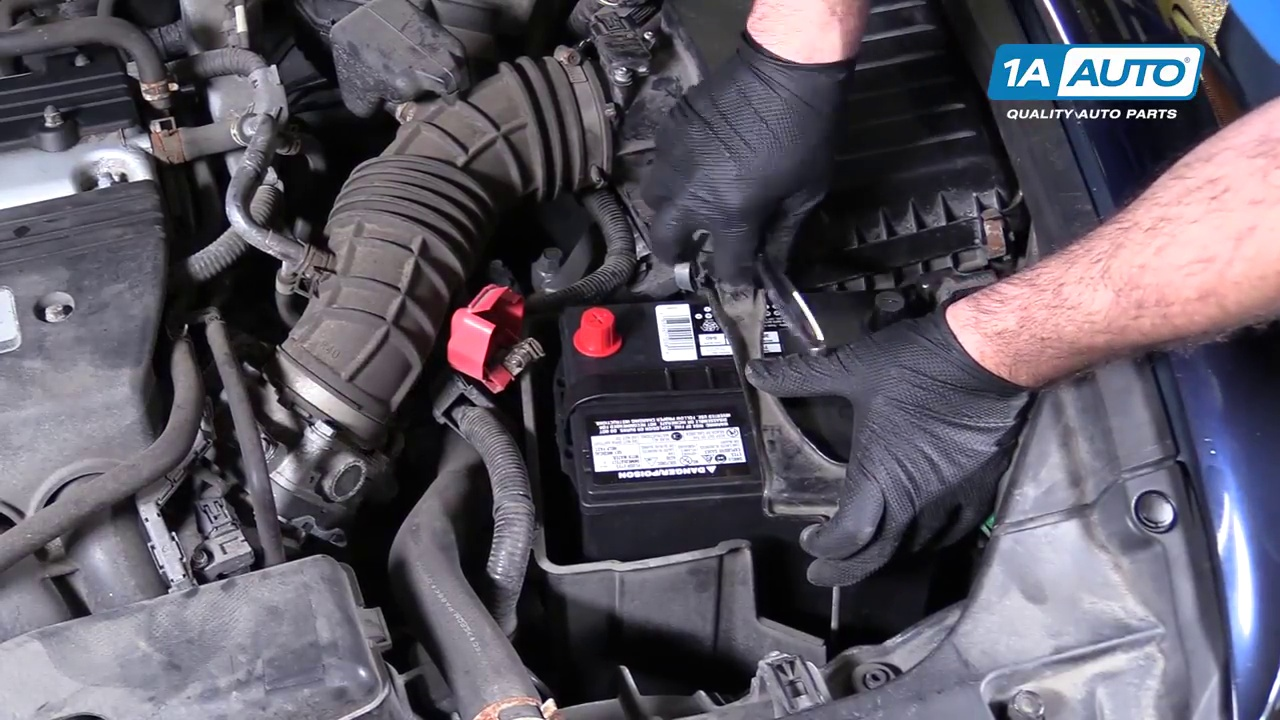battery: (559, 290, 921, 517)
pos_disconnected: (441, 267, 637, 390)
